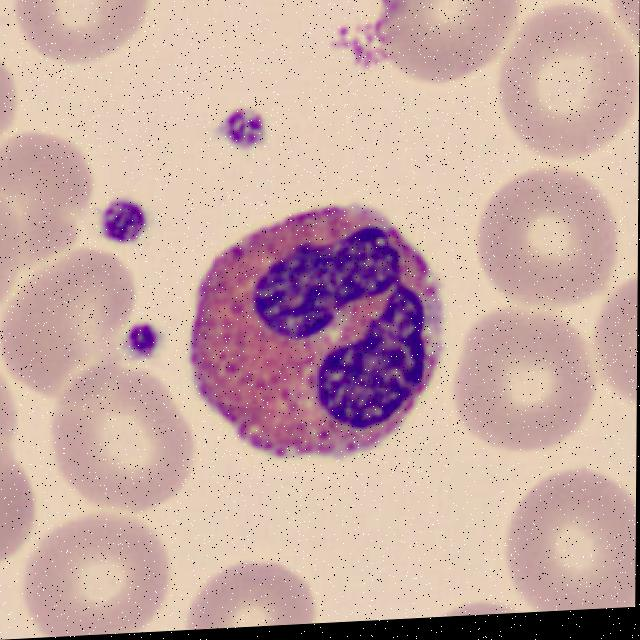eosinophil: (186, 188, 453, 470)
platelets: (95, 192, 151, 251), (221, 104, 267, 158), (123, 320, 163, 360)
rbc: (470, 160, 627, 312), (50, 363, 187, 521), (503, 1, 639, 159), (452, 298, 593, 447), (501, 467, 636, 614), (3, 252, 139, 390), (30, 512, 170, 638), (365, 0, 523, 85), (0, 130, 98, 246), (182, 549, 321, 630), (0, 0, 161, 68), (0, 438, 37, 566), (0, 357, 21, 458), (0, 47, 17, 136), (609, 0, 640, 44)
